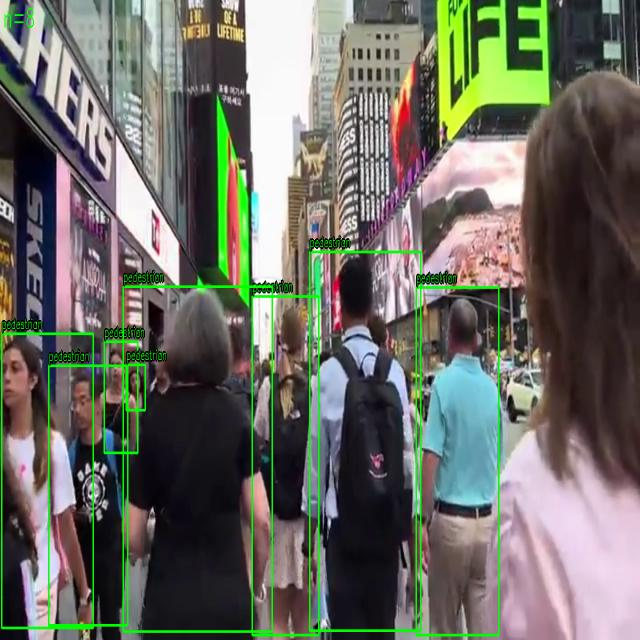with scooter: (123, 286, 273, 632), (309, 252, 421, 631), (416, 287, 499, 636), (2, 334, 94, 628), (252, 296, 319, 636), (48, 365, 128, 626), (104, 342, 138, 454), (126, 364, 146, 410)
